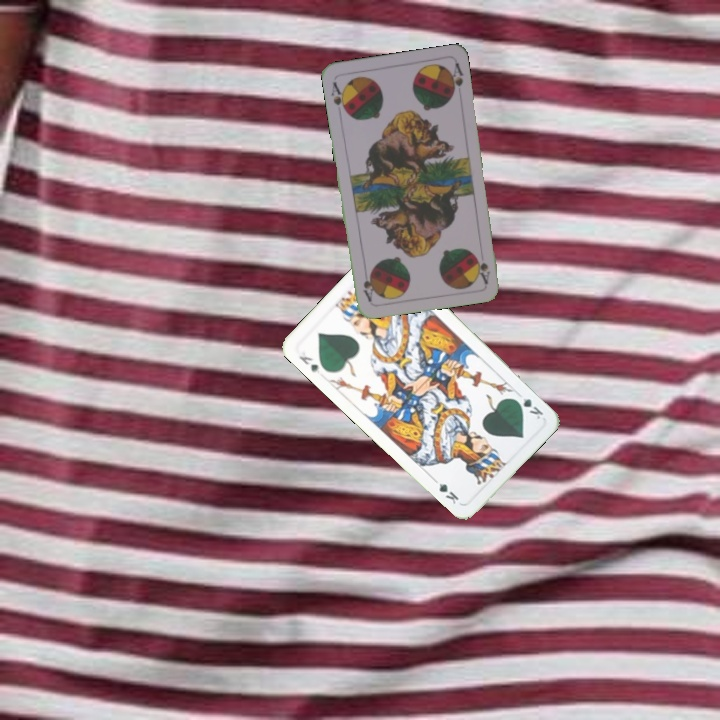GK: (510, 389, 546, 422), (295, 352, 322, 377)
SA: (327, 78, 350, 116), (473, 253, 492, 286)
